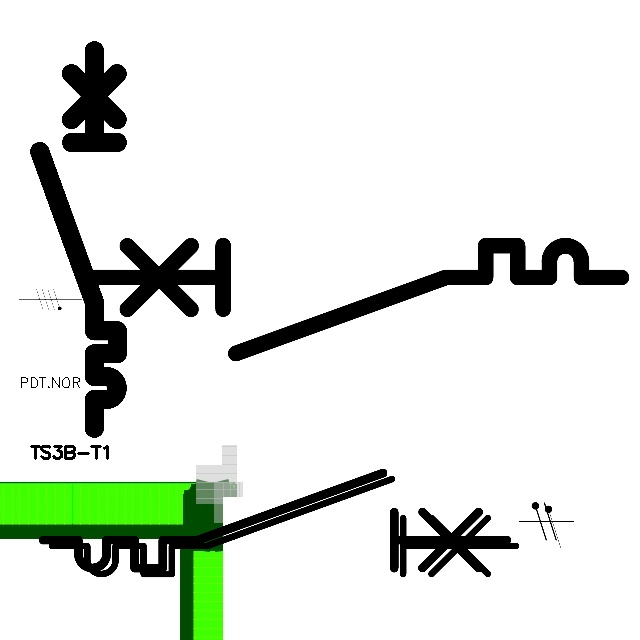interruptor_termomagnetico: (81, 232, 635, 367), (31, 461, 519, 580), (40, 467, 527, 586), (30, 41, 127, 438)
